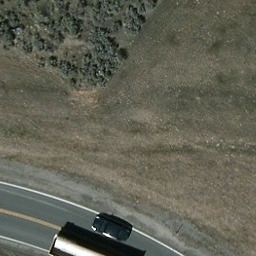car: (88, 215, 135, 243)
